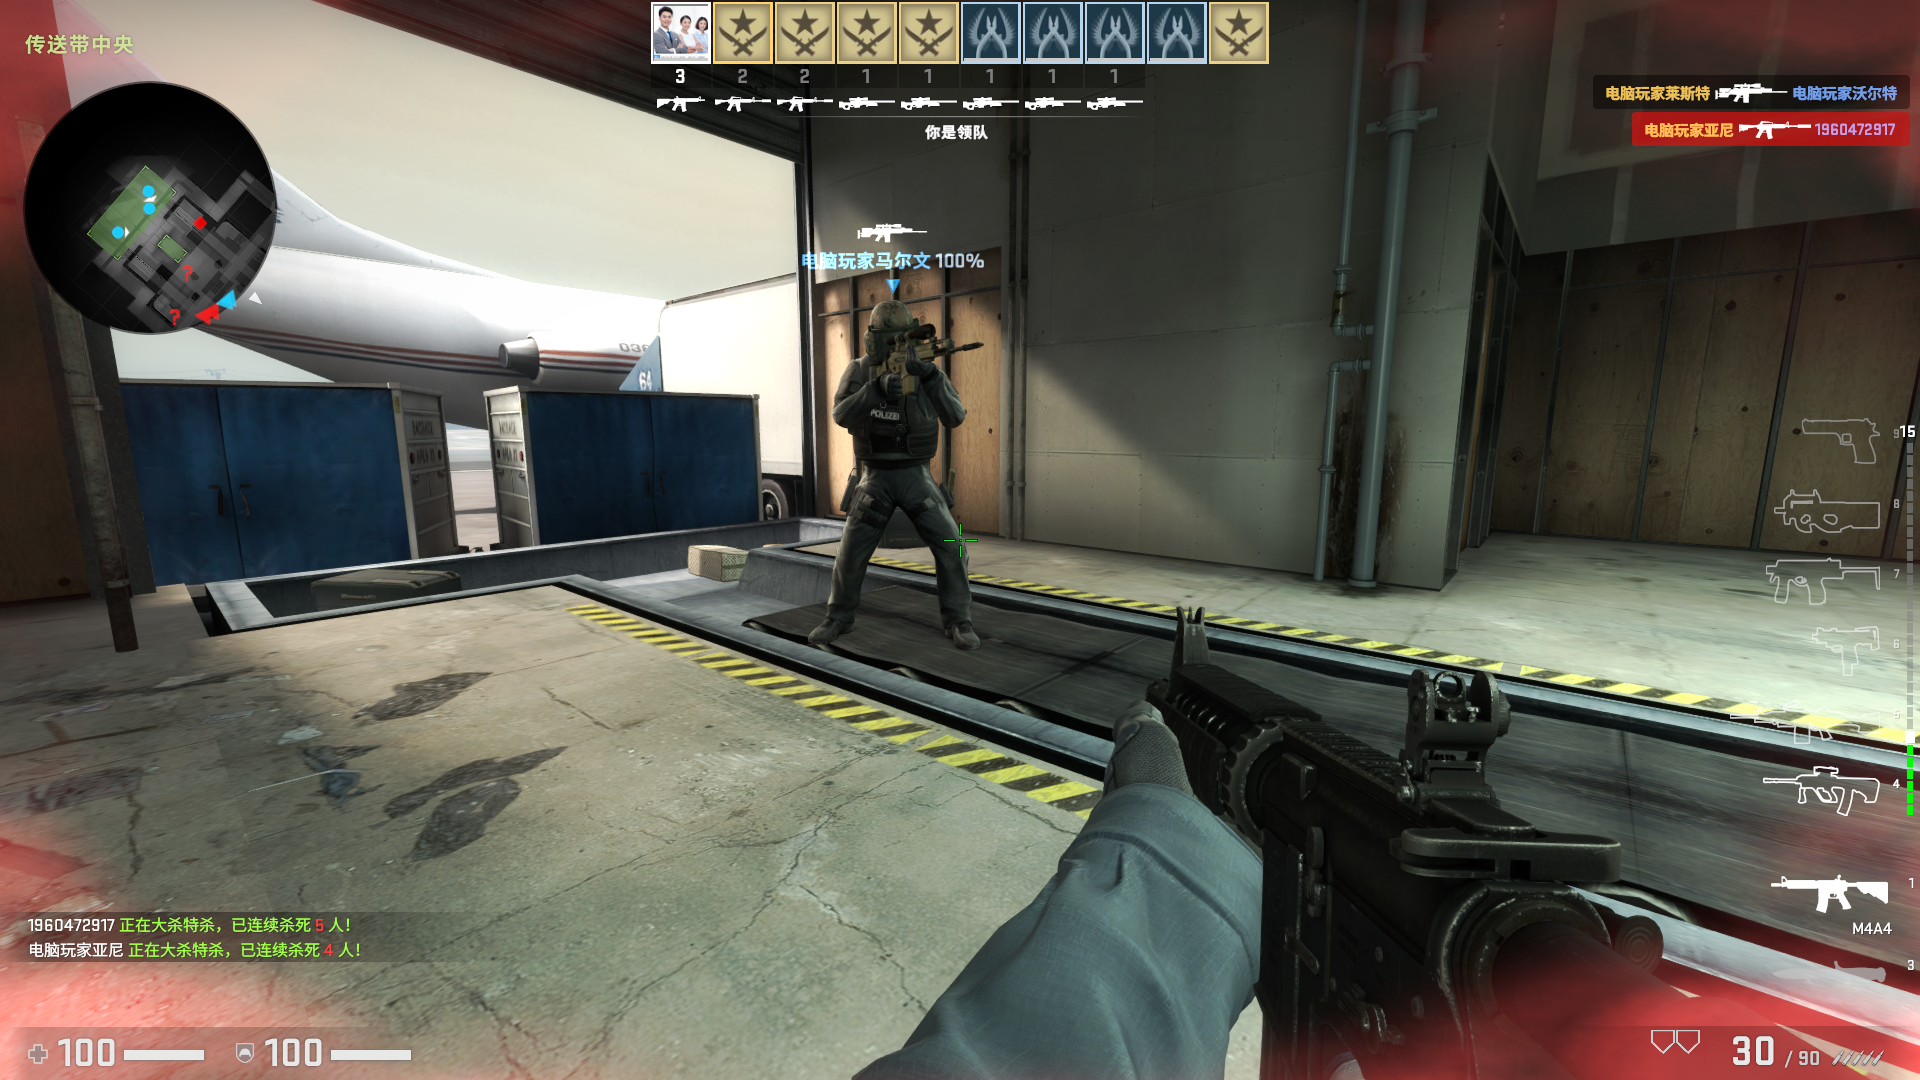person: (829, 293, 977, 646)
